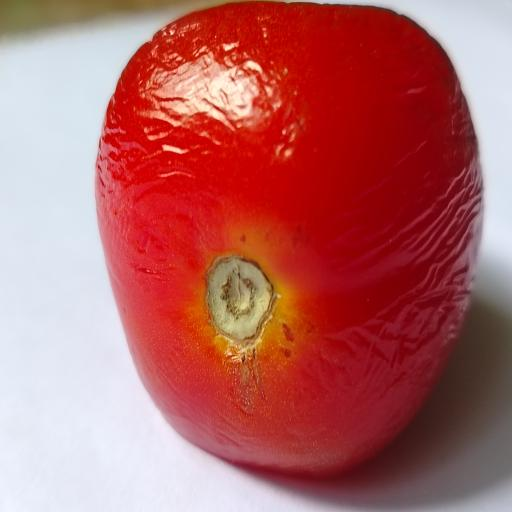spoiled: (95, 2, 483, 474)
